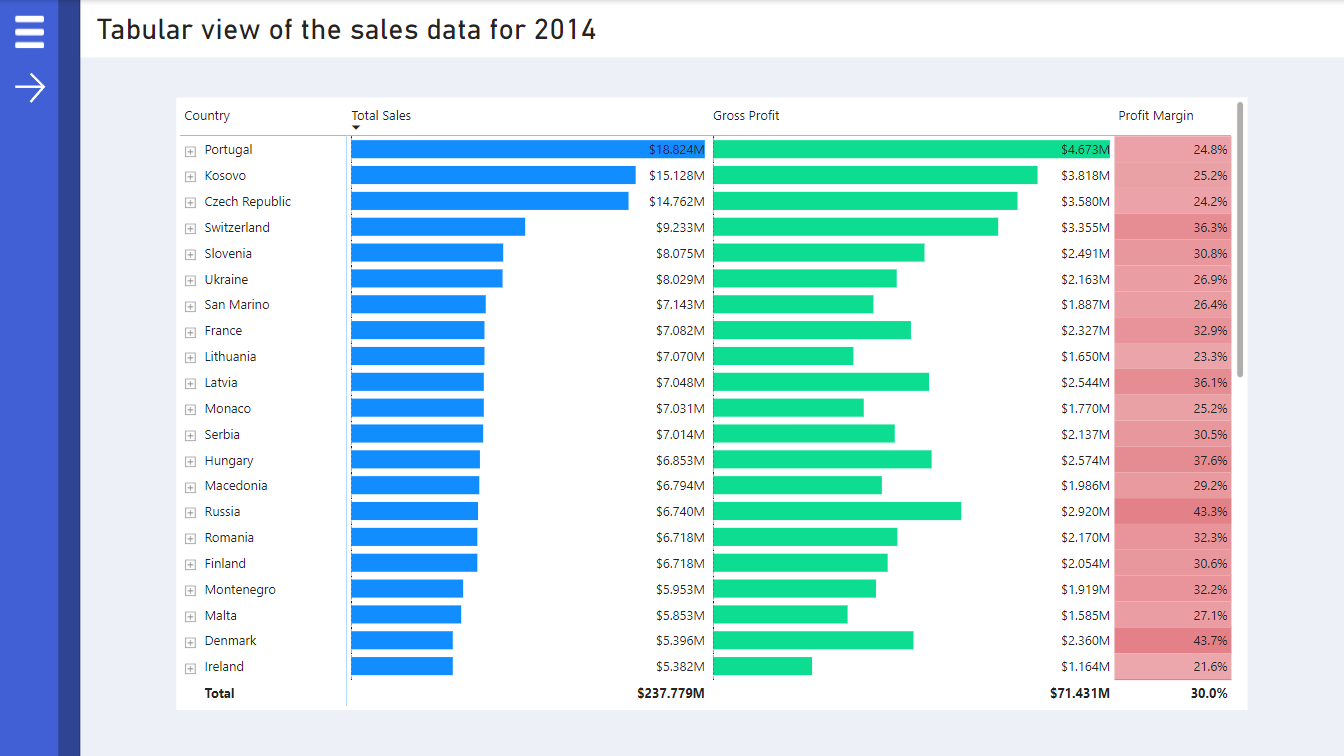

The page's visual inventory and layout, read from the dashboard file:
{"tool":"powerbi","page":{"name":"Matrix","canvas":[1664,936],"ordinal":1},"visuals":[{"type":"card","title":"Title Card","fields":{"Values":["Sales.Table Dynamic Year Title"]},"box":[110,0,638.3,65],"z":0},{"type":"actionButton","title":"Menu Bar Button","box":[12.9,14.3,48.6,51.4],"z":1000},{"type":"actionButton","box":[12.5,80.8,48.3,55.8],"z":2000},{"type":"pivotTable","fields":{"Rows":["Sales.Country","Sales.Item Type","Sales.Sales Channel"],"Values":["Sales.Total Sales","Sales.Gross Profit","Sales.Profit Margin"]},"box":[218.3,120,1326.7,758.3],"z":3000}]}

Visuals, with their boxes in screenshot pixels (x1, y1, x2, y2), scaled from the page's 1664x936 canvas onto the 1344x756 screenshot:
"Title Card" card: 89,0,604,52
"Menu Bar Button" actionButton: 10,12,50,53
actionButton: 10,65,49,110
pivotTable - Sales.Country x Sales.Item Type: 176,97,1248,709
